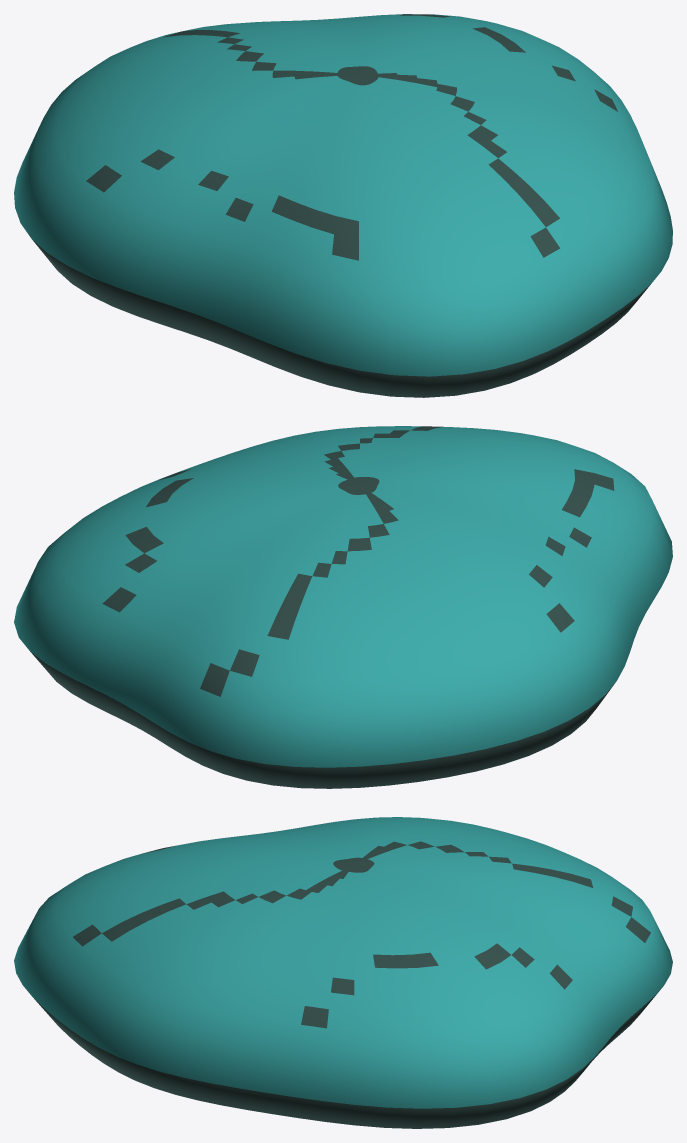
The model's file is stone-turquoise.glb.
3 renders of one model, top to bottom at view 1: azimuth 30°, elevation 25°; view 2: azimuth 150°, elevation 25°; view 3: azimuth 270°, elevation 25°, orthographic. The views are drawn at different scales.
Visible parts, largest first — view 1: Sculpture; view 2: Sculpture; view 3: Sculpture.
Part boxes in pixels (box(x1,y1,x2,y2)): Sculpture: box(14, 14, 672, 397); Sculpture: box(14, 426, 672, 788); Sculpture: box(14, 817, 672, 1128).
Bounding box in the file's own units: 2.06 × 0.6 × 2.38.
